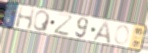9: (73, 16, 91, 39)
A: (91, 20, 112, 45)
H: (14, 5, 37, 32)
O: (114, 24, 131, 46)
Q: (32, 10, 52, 34)
Z: (53, 13, 74, 38)
